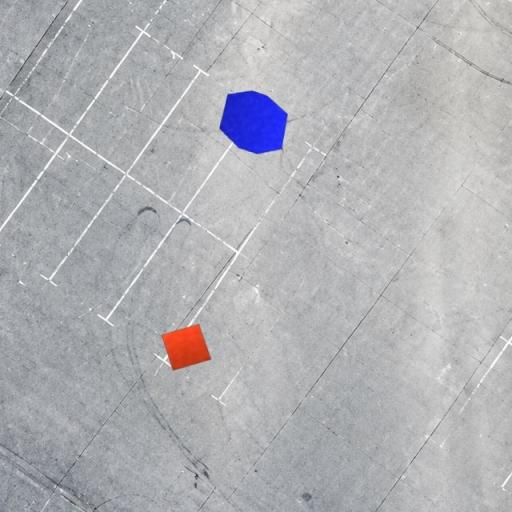RED_SQUARE: (161, 323, 212, 371)
